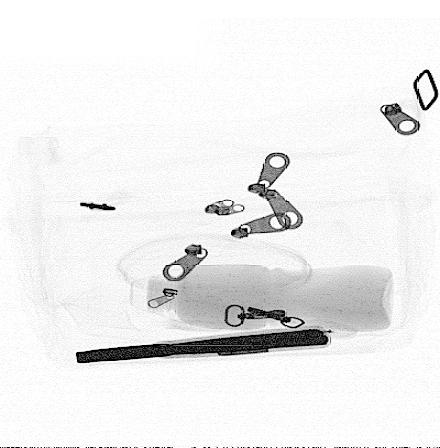Pliers: (72, 325, 333, 367)
